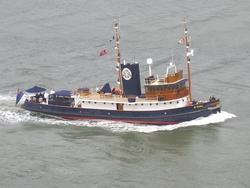otherboat: (21, 52, 224, 125)
